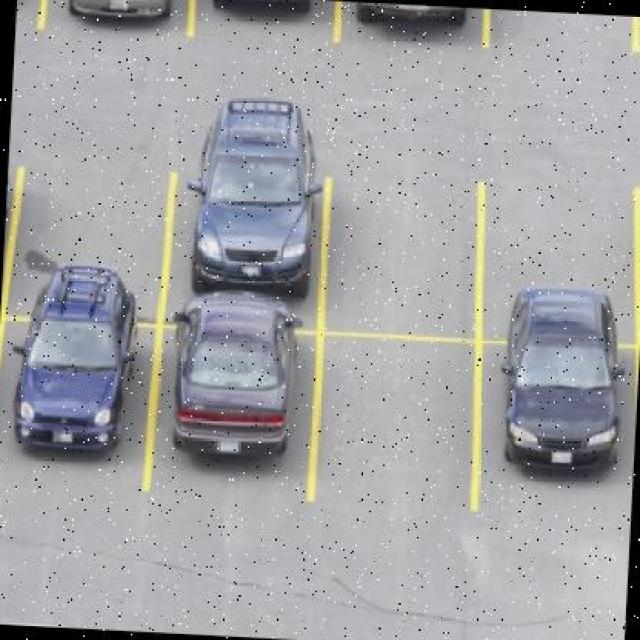Car: (189, 90, 318, 290), (1, 272, 130, 463), (173, 296, 298, 472), (496, 295, 615, 476), (60, 1, 171, 24)
Empty: (315, 335, 470, 530), (327, 164, 463, 329), (15, 149, 161, 264), (501, 184, 623, 292)
